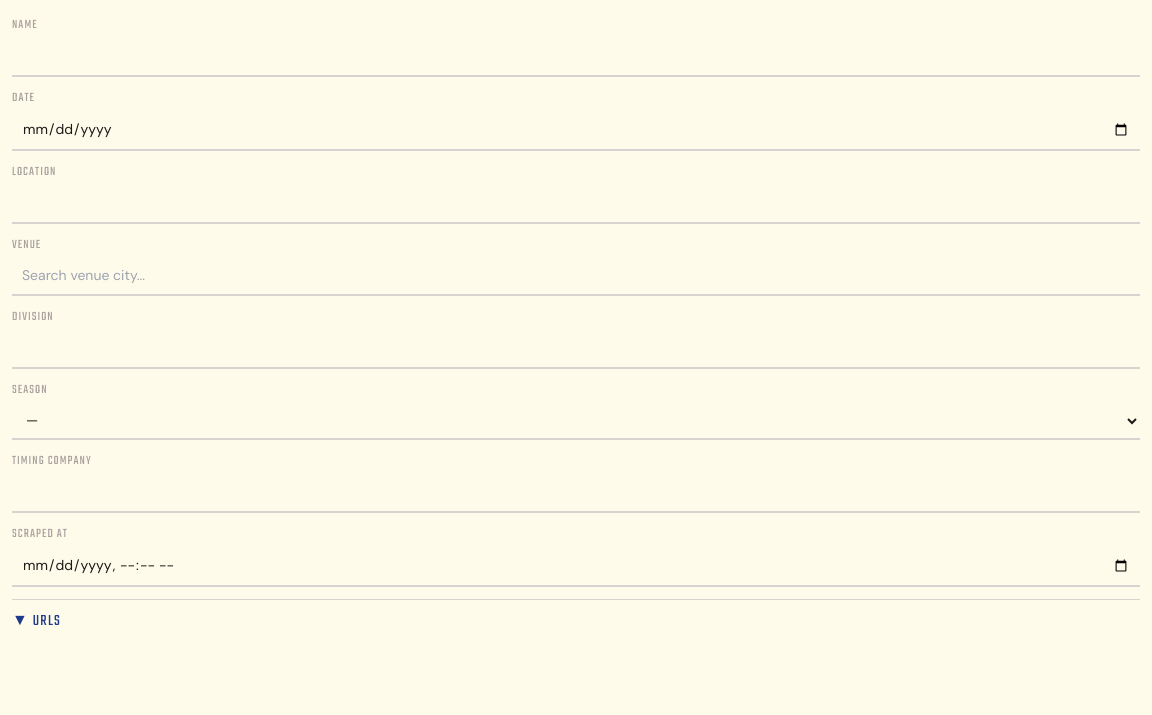
Test: MeetForm › opens URL section on toggle button click
This screenshot has width=1152, height=715.
Click the button "▼ URLs" at (37, 622), box [12,610,61,634]
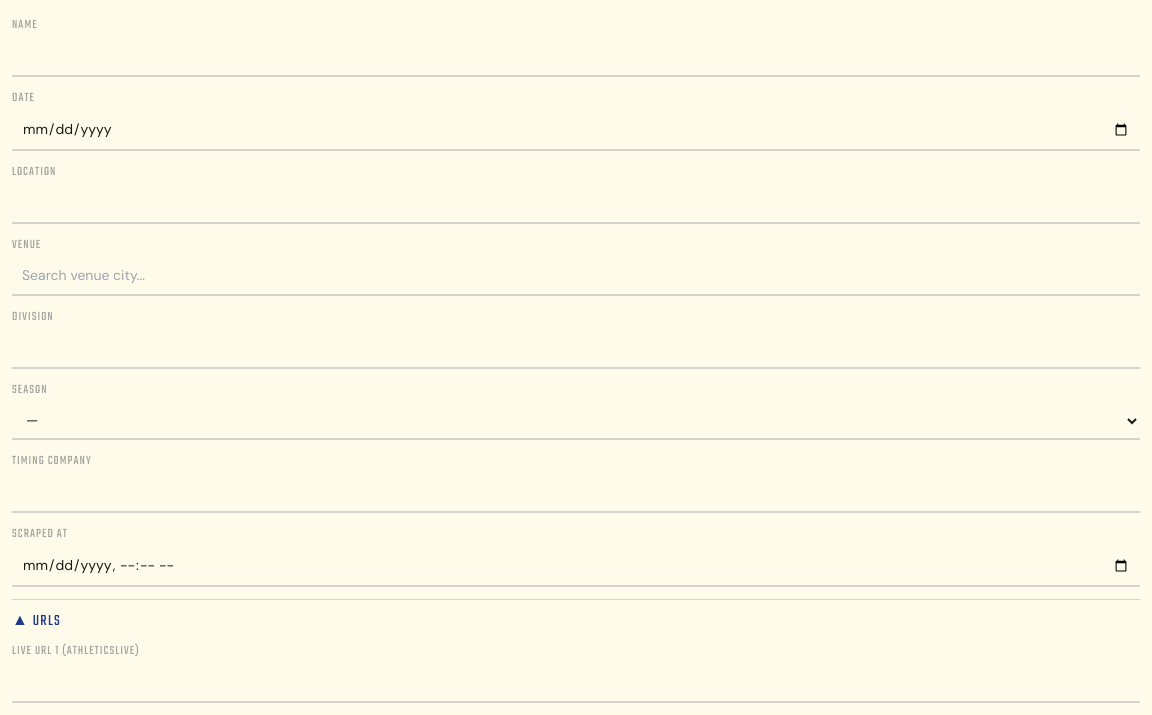
Check: the field labelled "Live URL 1 (AthleticsLive)" is shown, box [12,664,1140,702]
